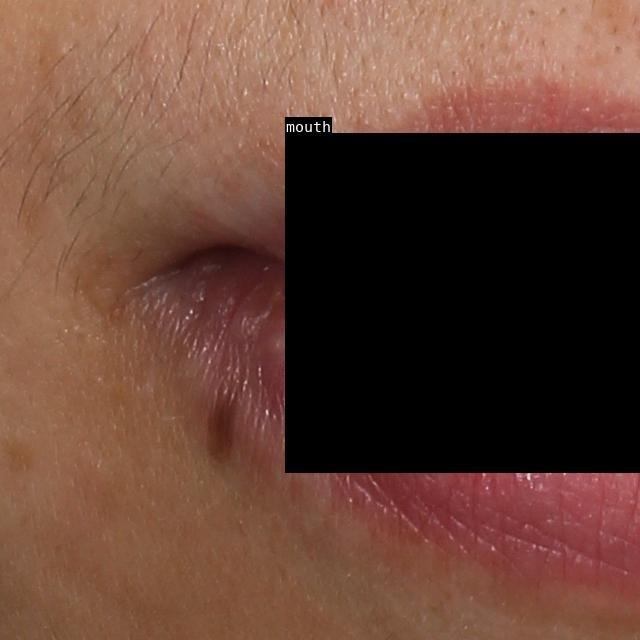nevus: (199, 387, 247, 462)
